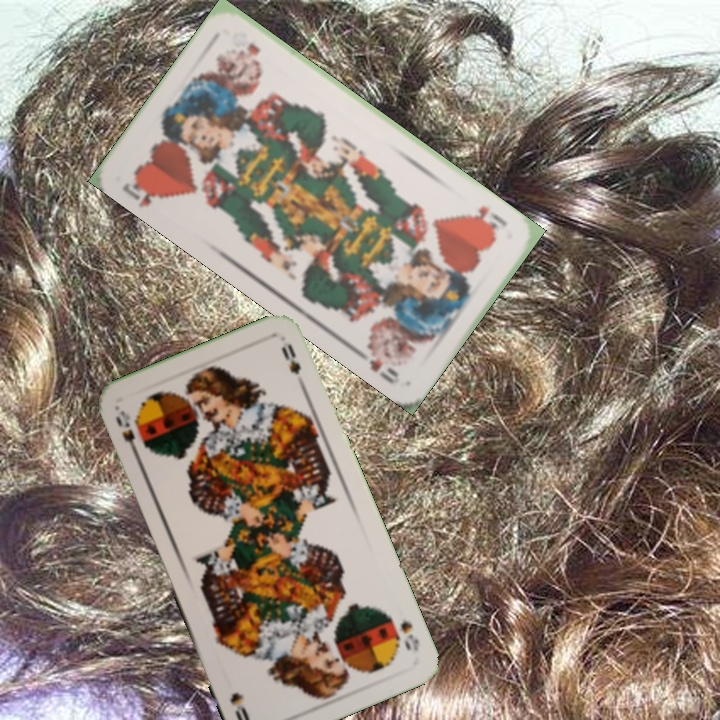HO: (118, 170, 167, 210), (463, 202, 510, 236)
SO: (111, 405, 142, 462), (396, 616, 422, 654)
